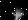person: (10, 7, 25, 20)
